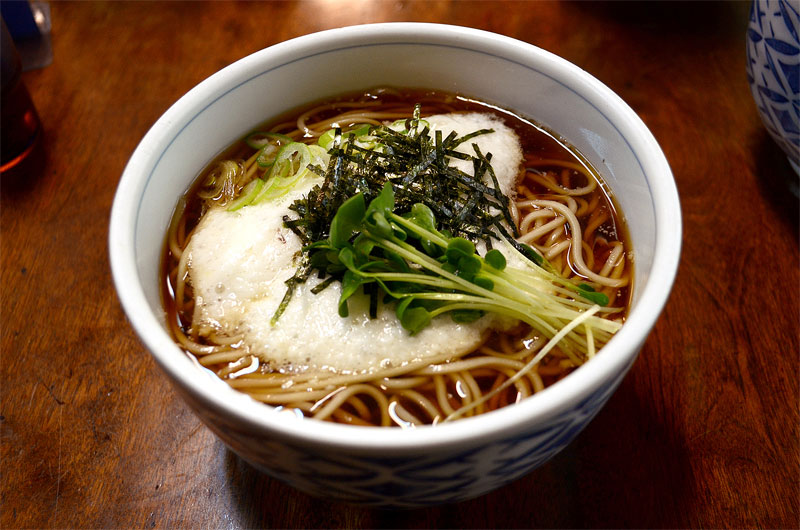Soba: (166, 95, 635, 415)
